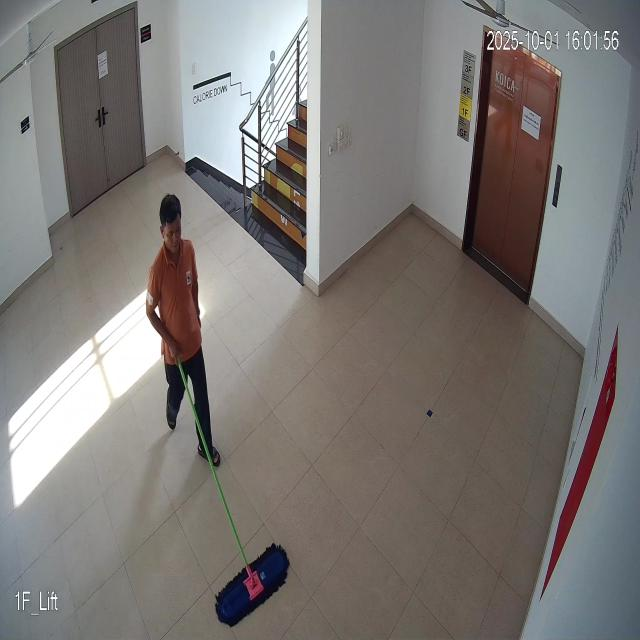face: (155, 187, 187, 262)
